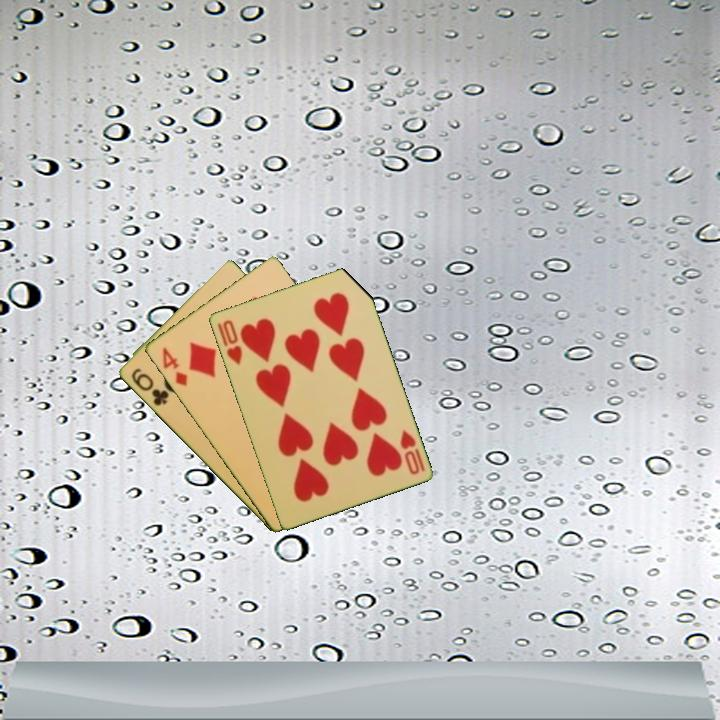10h: (213, 316, 245, 368), (396, 426, 427, 477)
4d: (158, 343, 190, 389)
6c: (127, 365, 171, 409)
